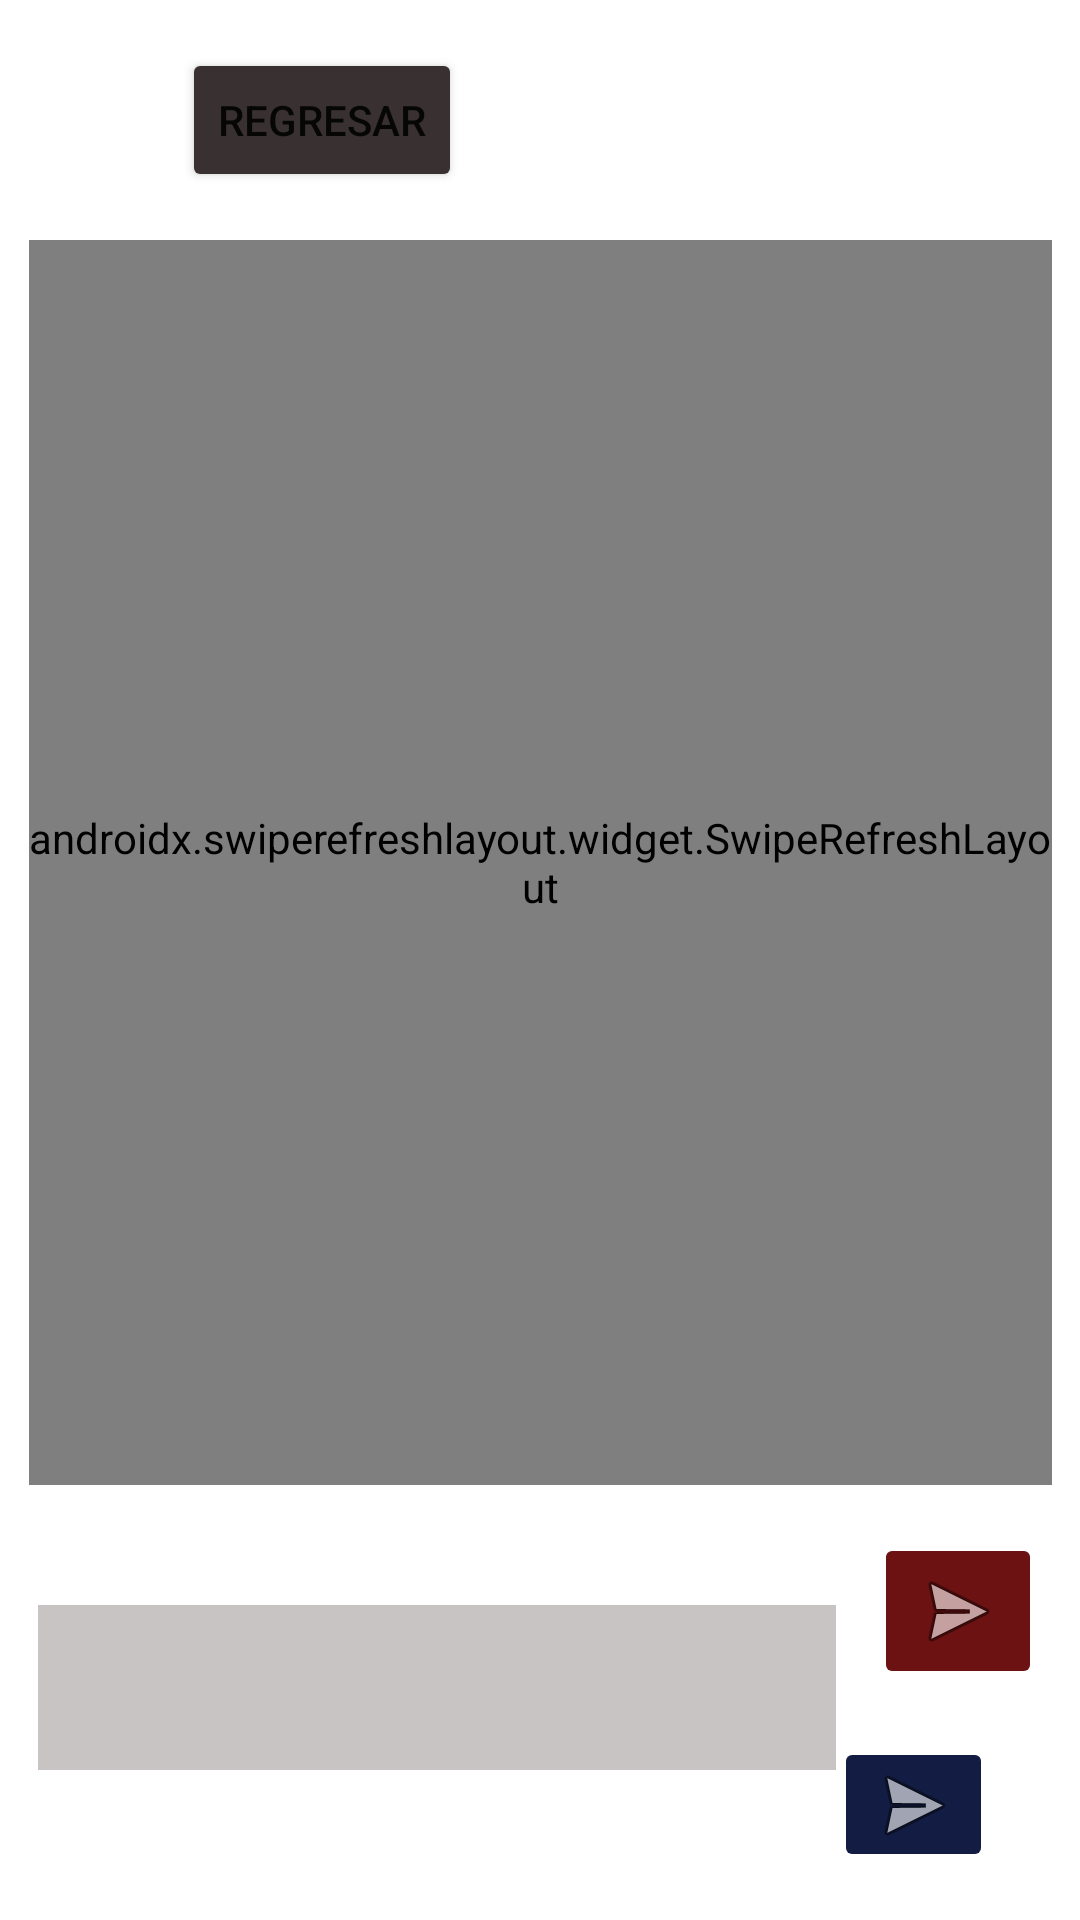

Named icons in this screenshot (1080*1920) and their centers, point (x, y):
send: point (958, 1611), point (913, 1804)
